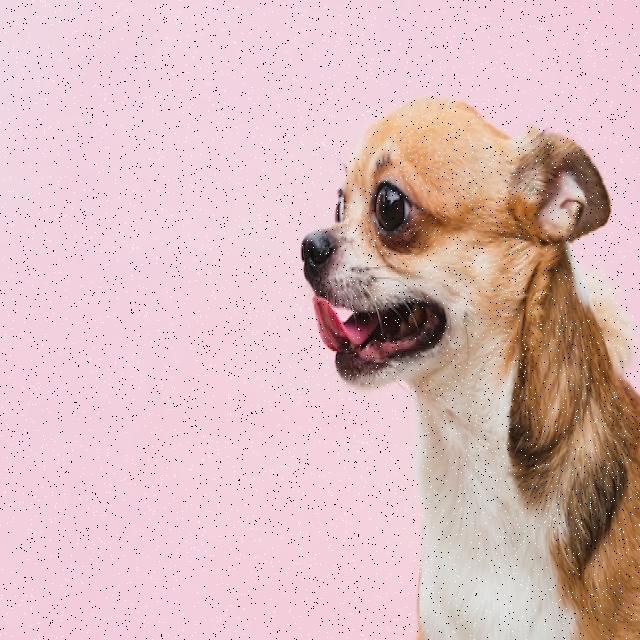Dog: (301, 96, 640, 640)
